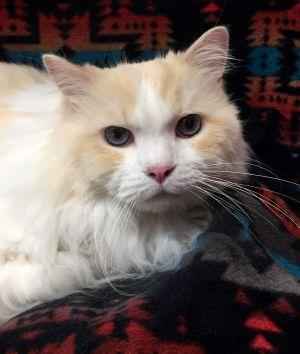ragdoll: (41, 21, 259, 223)
